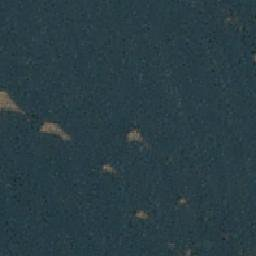debris: (1, 89, 28, 119), (37, 121, 71, 142), (122, 127, 147, 144), (134, 210, 153, 220), (101, 163, 117, 174), (177, 197, 191, 205)
